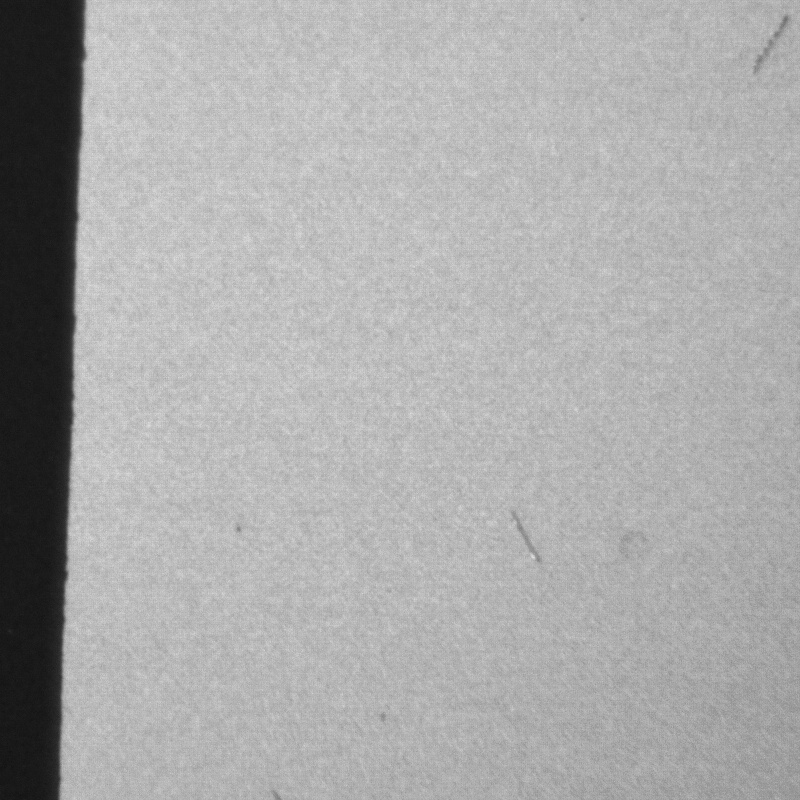defect: (509, 509, 554, 573), (748, 18, 785, 82), (376, 709, 402, 725), (268, 785, 290, 800), (230, 524, 244, 537)
